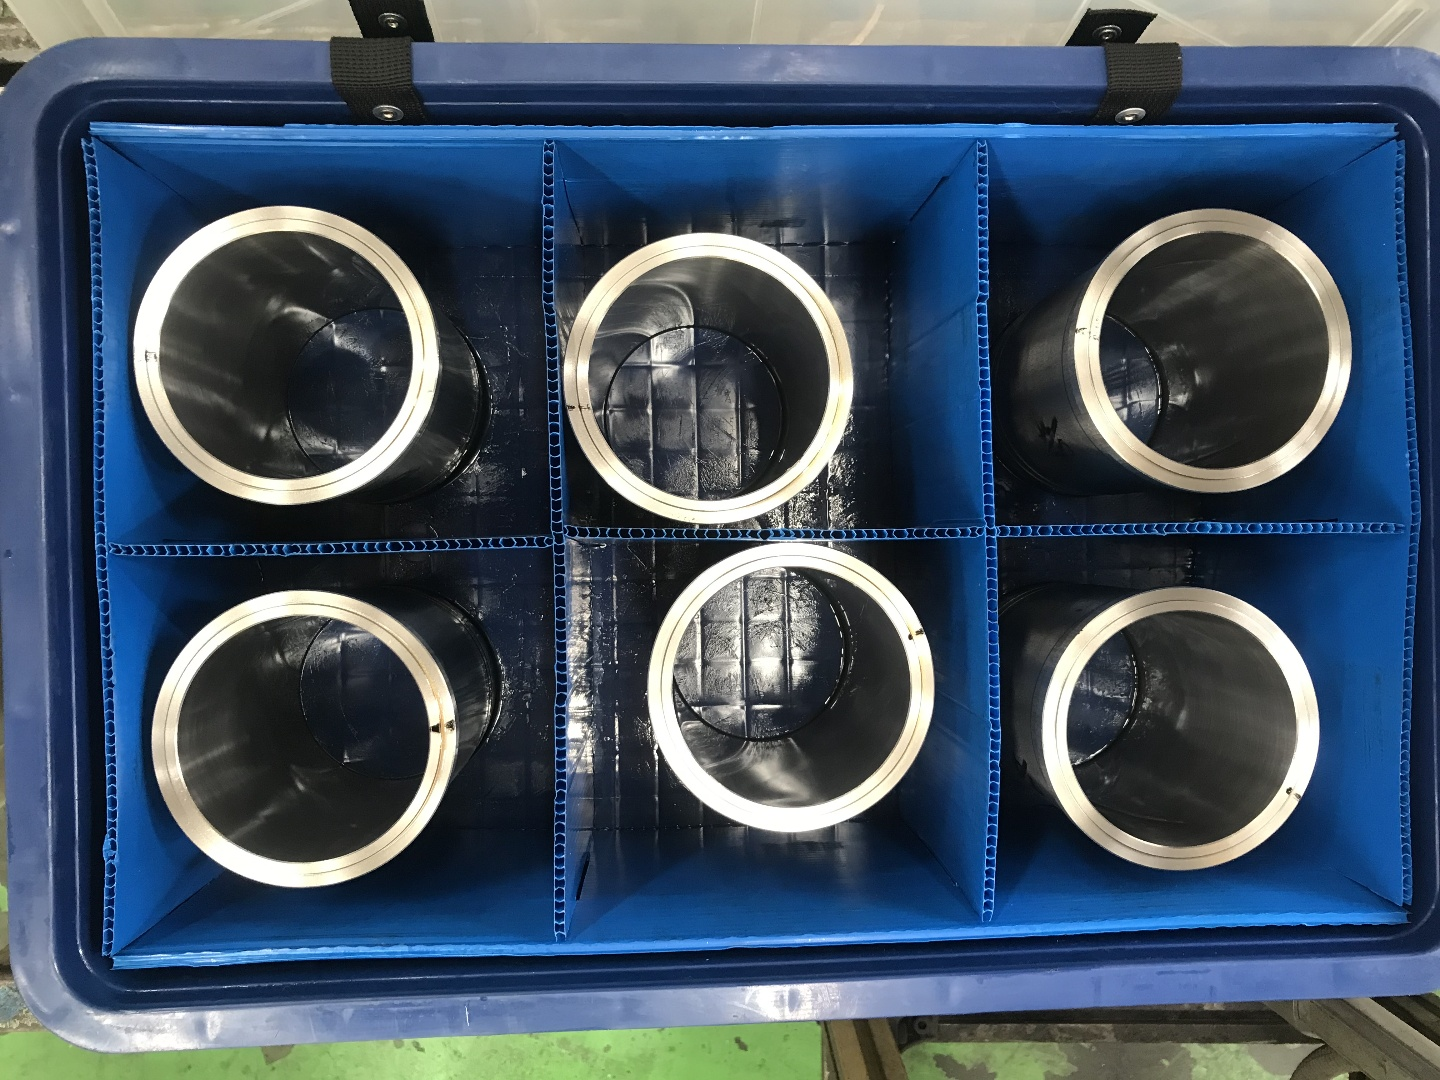cylinder: (128, 199, 444, 511), (149, 587, 461, 891), (642, 538, 941, 839), (554, 230, 858, 528), (1071, 204, 1357, 499), (1037, 582, 1322, 874)
